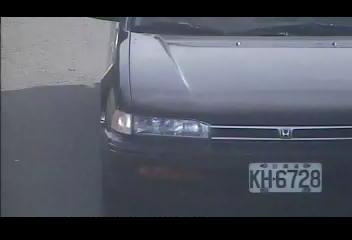plate: (246, 160, 323, 194)
